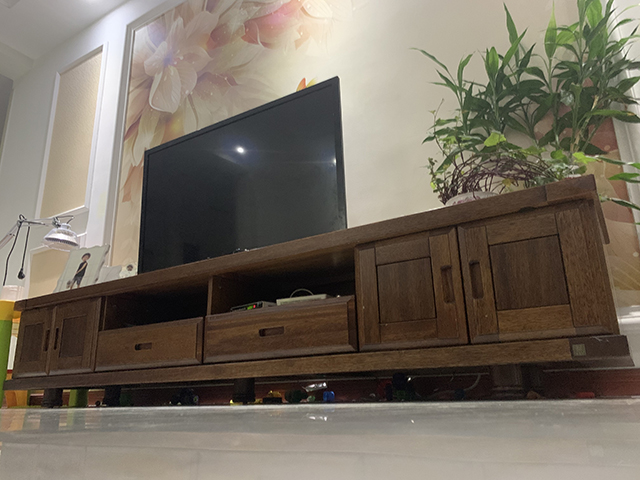cabinet: (1, 171, 640, 408)
